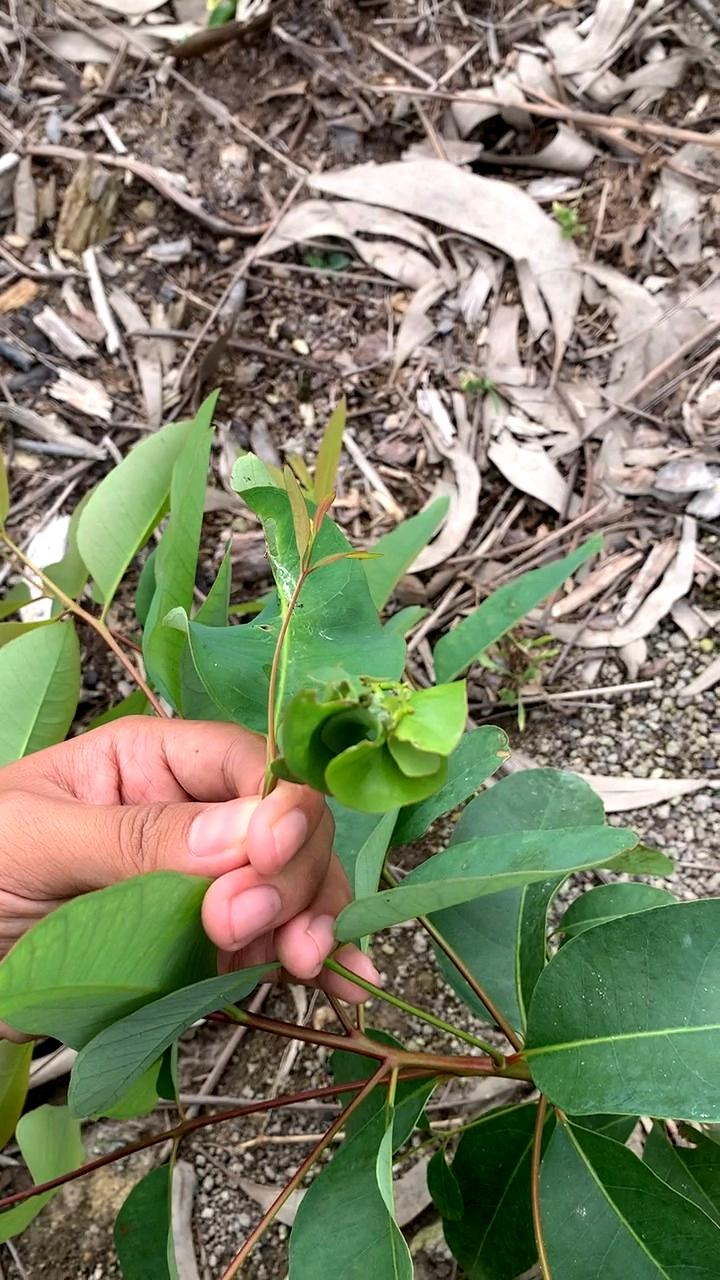Leaf Roller - Leaf: (278, 680, 465, 819)
